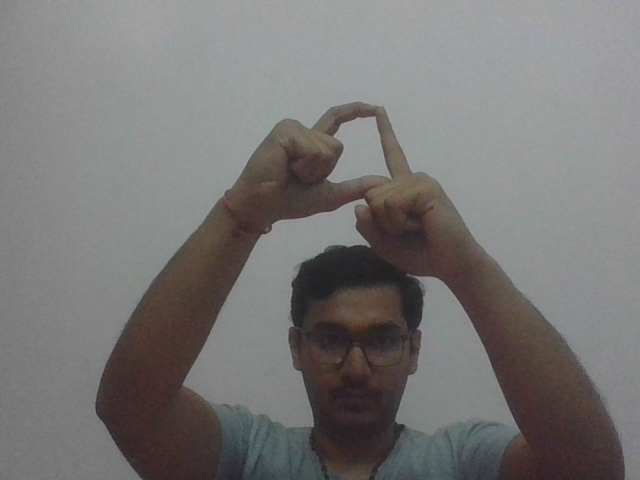D: (258, 99, 473, 269)
